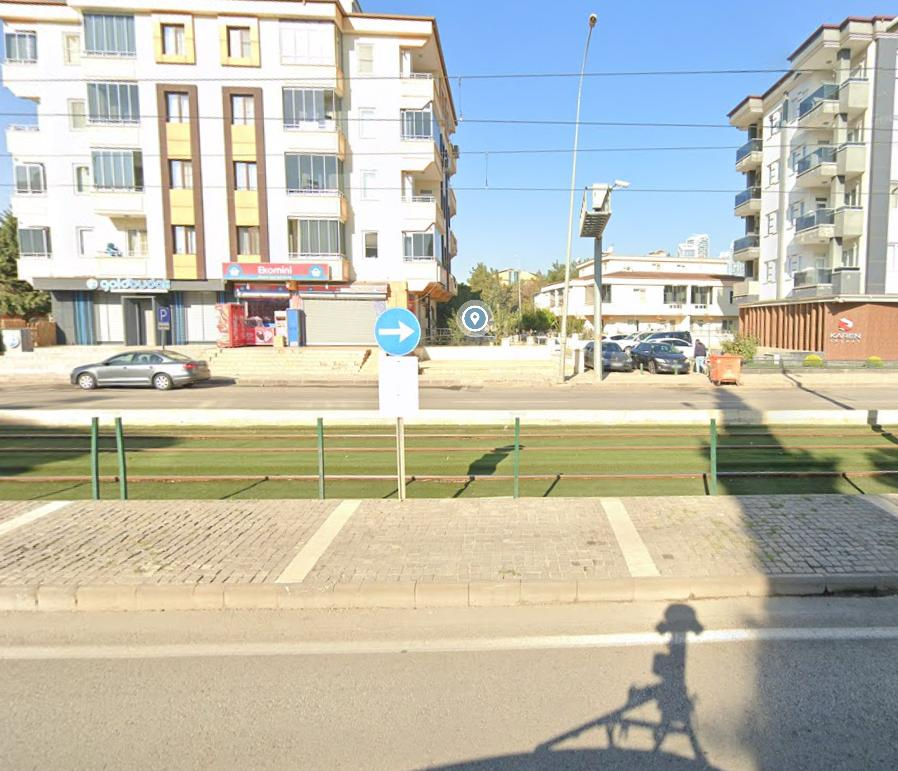turnright: (374, 308, 423, 354)
